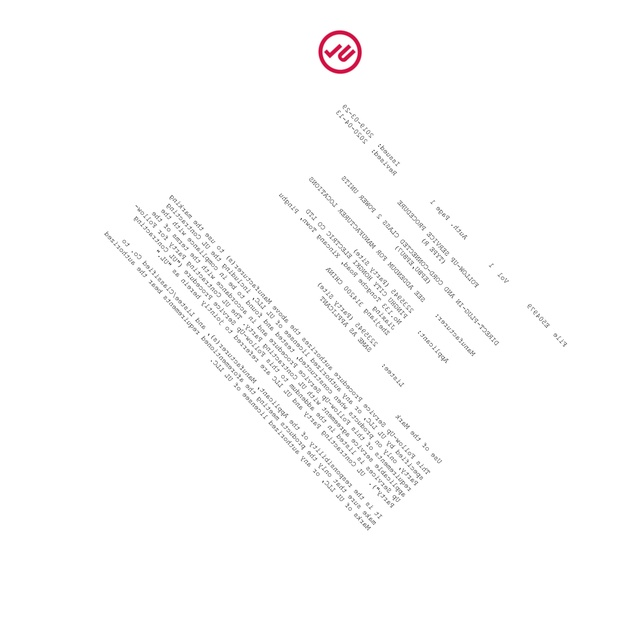ul: (318, 29, 363, 74)
